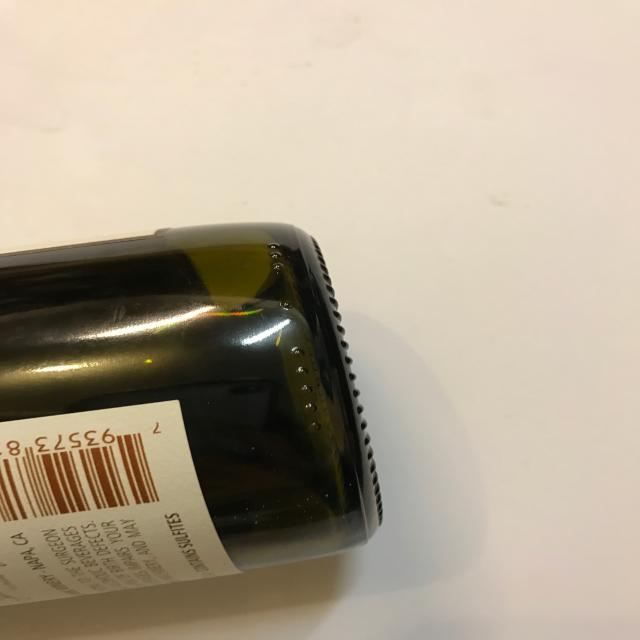glass: (1, 220, 386, 616)
